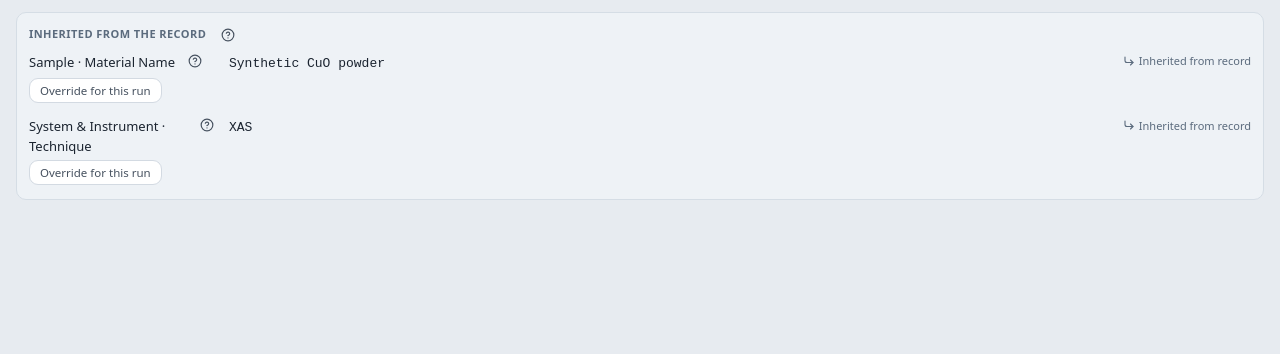
Test: an override at a field the schema closes with a list › a field the schema leaves open keeps its text box
The width and height of the screenshot is (1280, 354).
Click the button "Override for this run" below "Sample · Material Name". click: (95, 91)
box: [29, 78, 162, 103]
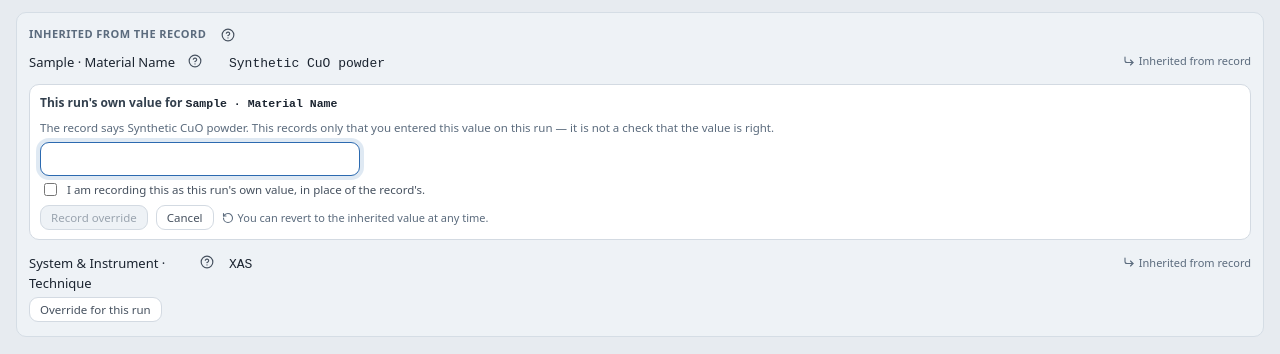
Expected: the field is shown, [40, 142, 360, 176]
